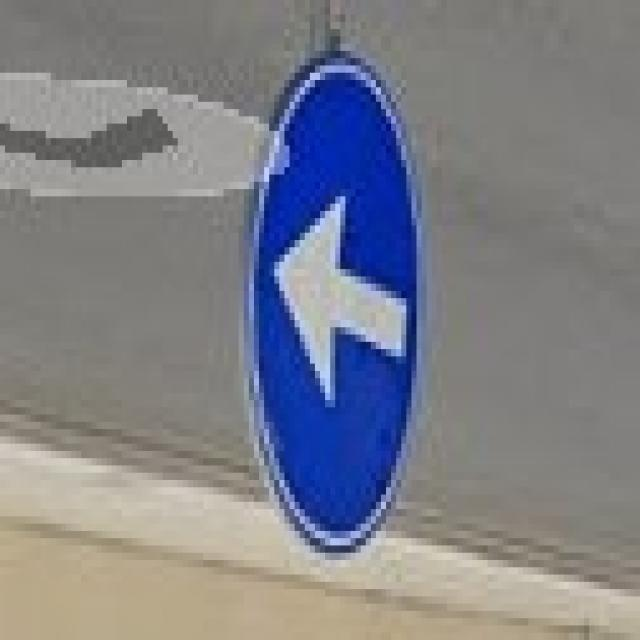Turn Left: (242, 56, 430, 558)
